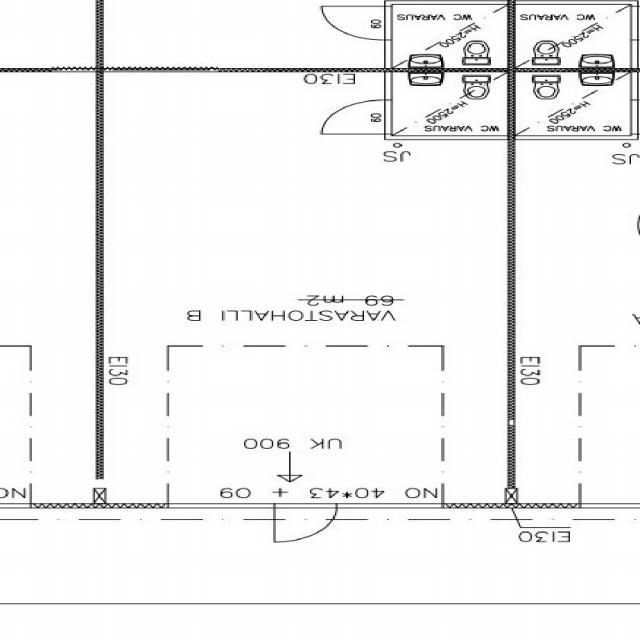door: (273, 502, 336, 542), (322, 100, 391, 134)
